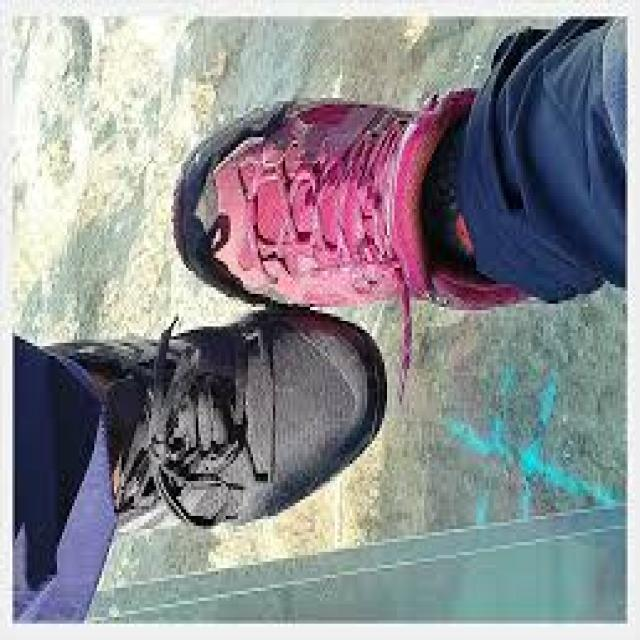shoe: (171, 92, 569, 318), (40, 319, 390, 529)
